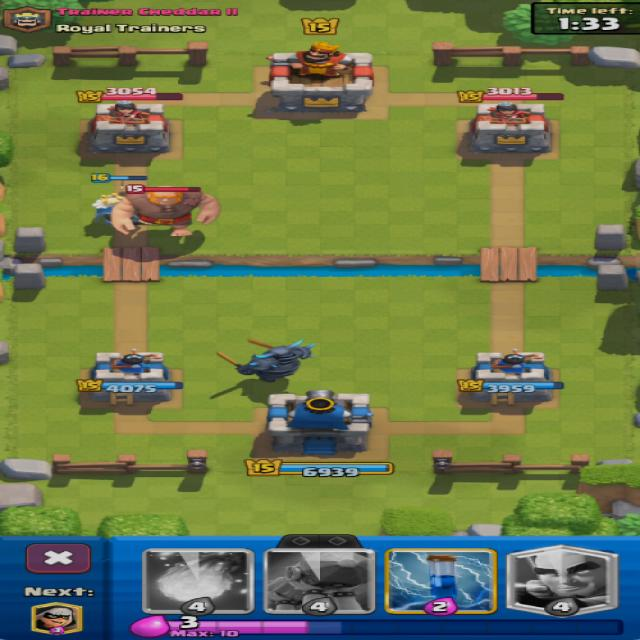Enemy-Giant: (113, 190, 219, 235)
Enemy-KingTower: (269, 42, 372, 114)
Enemy-PrincessTower: (88, 100, 169, 153), (468, 103, 550, 155)
